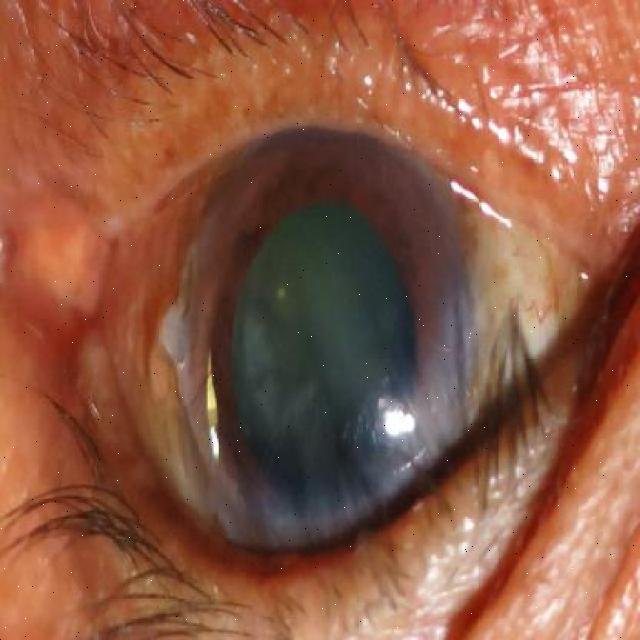Cataract: (168, 124, 486, 576)
